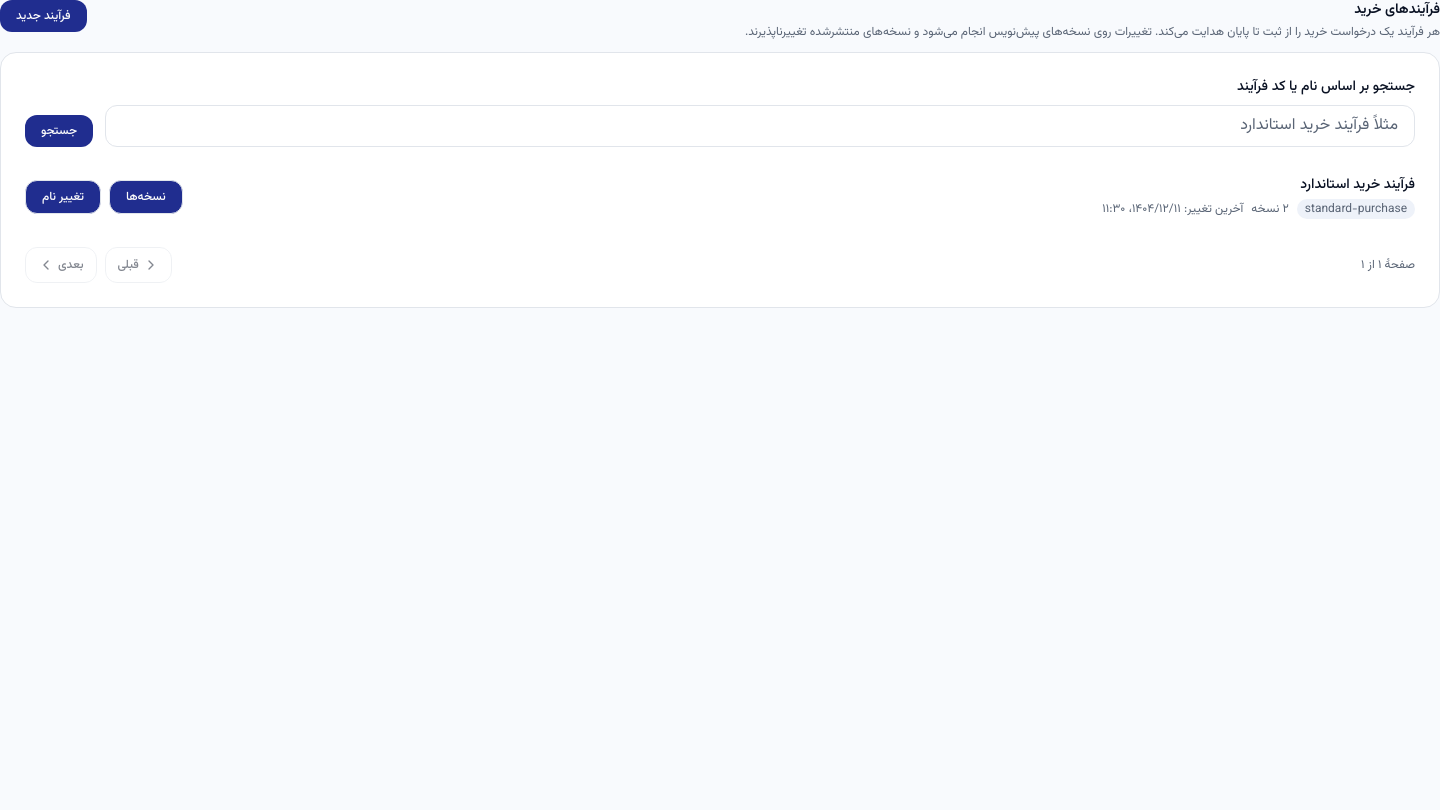
Test case: CommerceWorkflowSettings — definitions › validates the create form against the DTO bounds before any request
This screenshot has width=1440, height=810.
Expected: the list with test id "commerce-workflow-definition-rows" is shown, [25, 163, 1415, 231]
Click the button with test id "commerce-workflow-create-open" at [43, 16], box [0, 0, 87, 32]
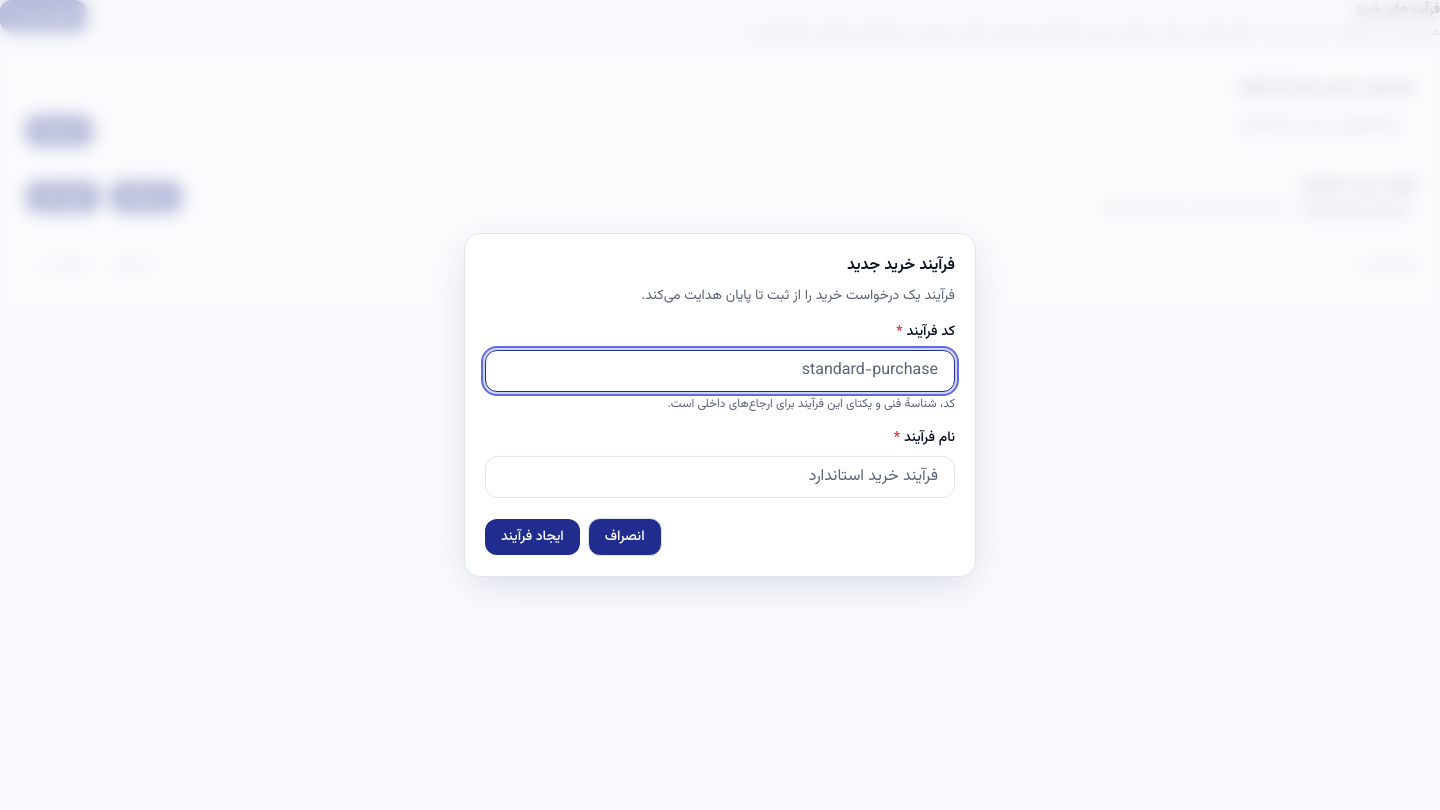
Click the button with test id "commerce-workflow-create-submit" at [532, 537], box [485, 519, 580, 555]
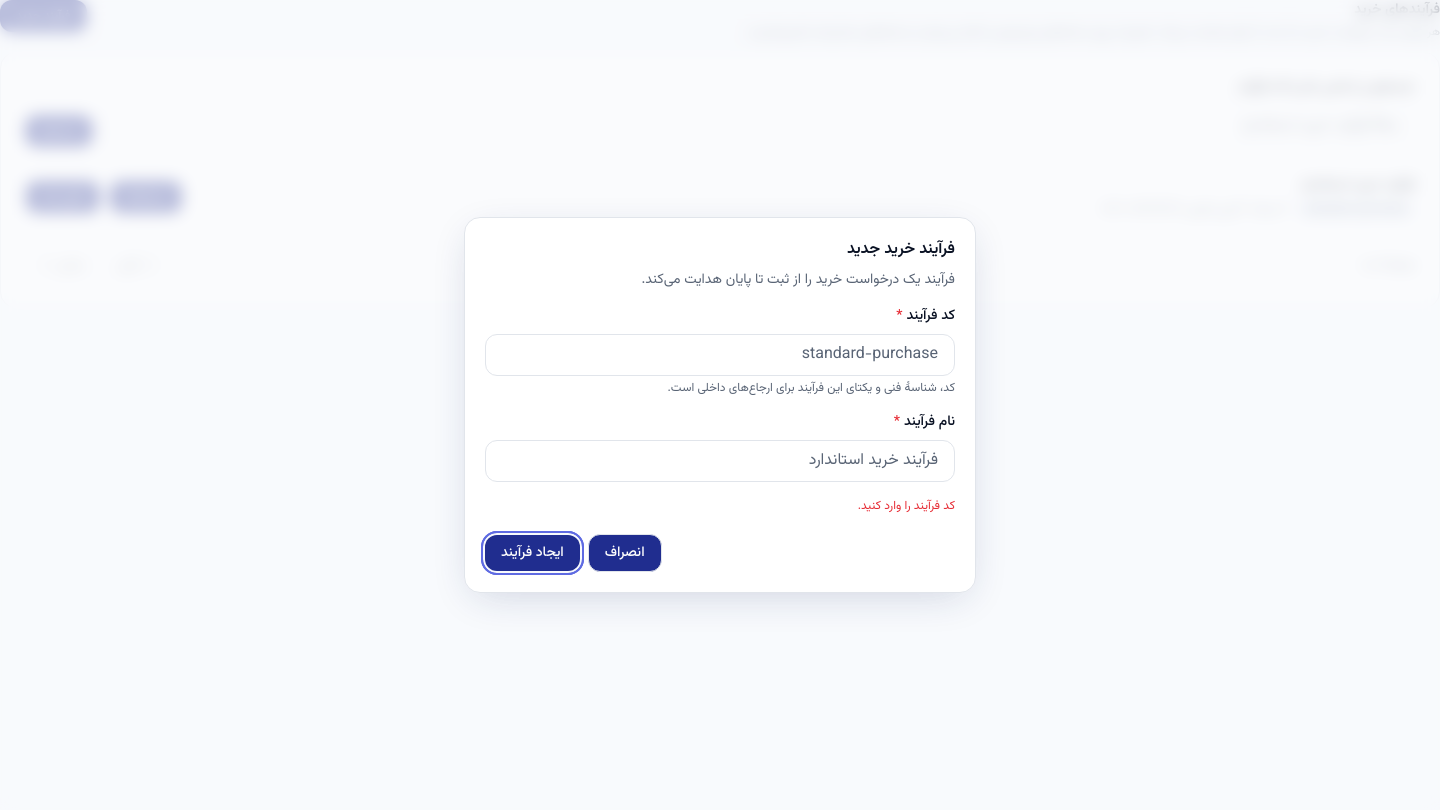
Expected: the message with test id "commerce-workflow-create-error" reads "کد فرآیند را وارد کنید.", [858, 497, 955, 515]
